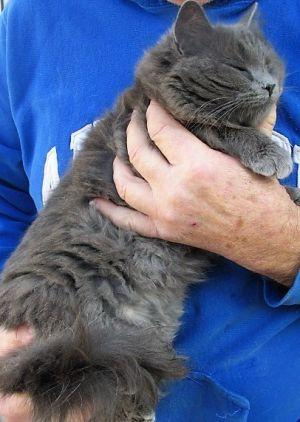rblue: (145, 1, 300, 142)
